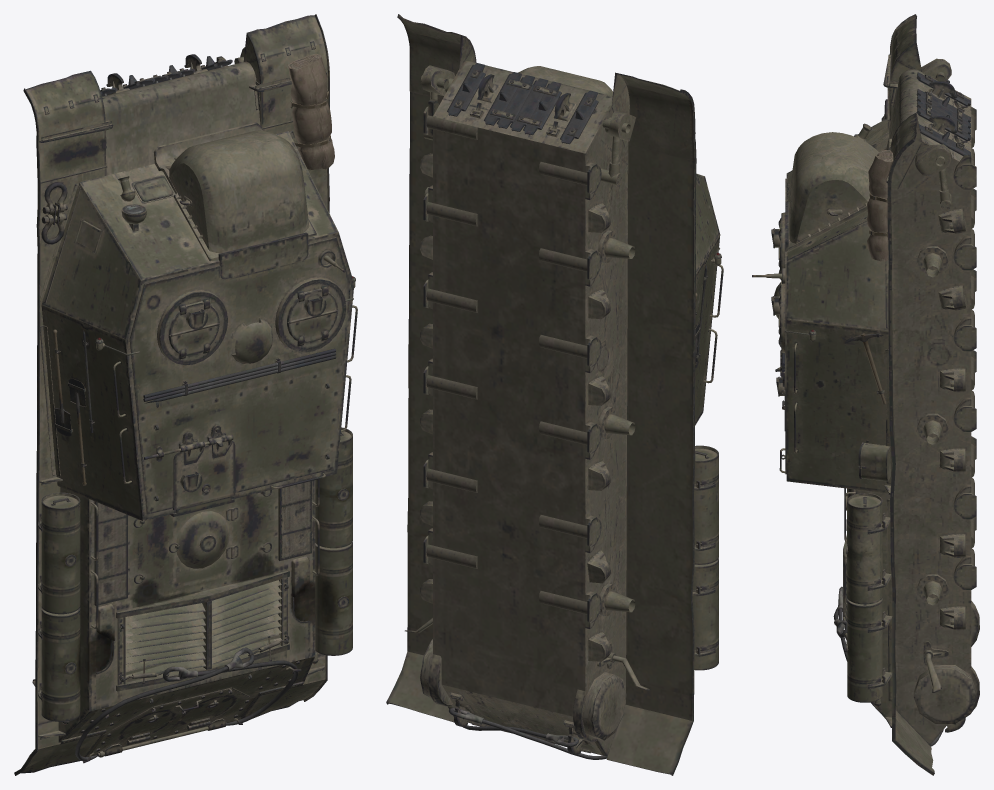
Rendered from Hull.glb.
3 views of the same model, side by side, from view 1: azimuth 30°, elevation 25°; view 2: azimuth 150°, elevation 25°; view 3: azimuth 270°, elevation 25° (orthographic). The views are drawn at different scales.
Parts seen in each view (by area): view 1: set_0_group_0; view 2: set_0_group_0; view 3: set_0_group_0.
Part boxes in pixels (x1=…): set_0_group_0: x1=14, y1=14, x2=357, y2=775; set_0_group_0: x1=386, y1=14, x2=723, y2=775; set_0_group_0: x1=752, y1=14, x2=979, y2=775.
Bounding box in the file's own units: 3.17 × 6.91 × 2.22.
1 material, 1 textured.
